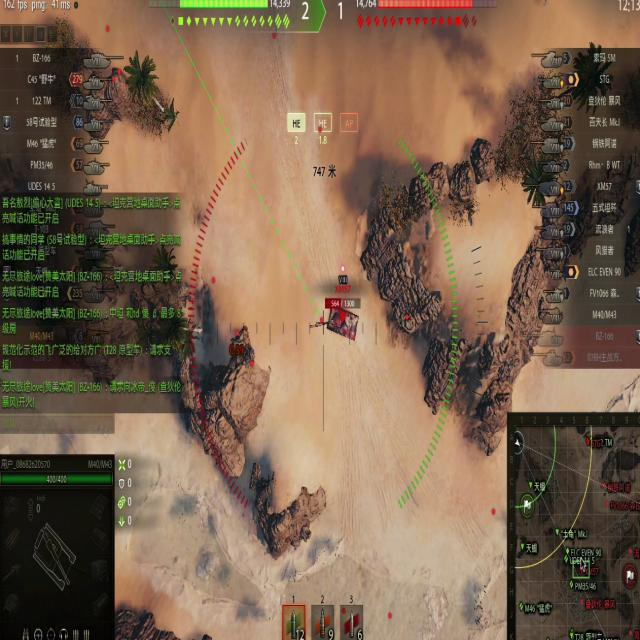tank: (315, 291, 364, 343)
